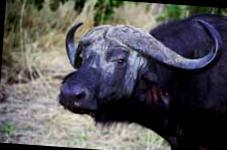Buffalo: (36, 1, 227, 139)
